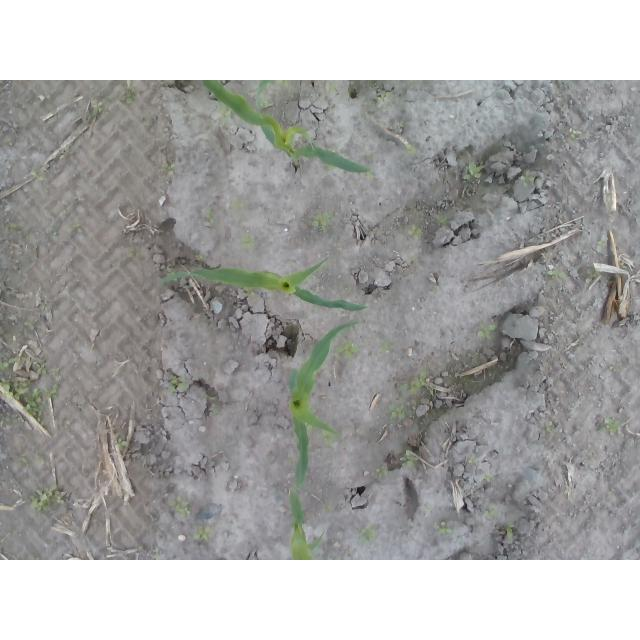Maize: (199, 81, 370, 176), (287, 317, 361, 496), (157, 253, 369, 311), (287, 486, 325, 560)
Weeds: (0, 349, 64, 428), (400, 368, 439, 396), (30, 486, 67, 513), (310, 208, 338, 241), (335, 336, 361, 361), (14, 447, 46, 466), (167, 494, 191, 516), (382, 400, 406, 421), (357, 521, 377, 545), (239, 222, 257, 248), (464, 161, 483, 183), (167, 375, 189, 394), (322, 431, 343, 450), (603, 416, 625, 433), (478, 321, 498, 339), (191, 524, 211, 542), (207, 393, 222, 416), (545, 266, 568, 280), (376, 90, 393, 107), (376, 336, 393, 353), (125, 80, 136, 105), (433, 521, 450, 536), (479, 503, 497, 517), (255, 98, 274, 111), (161, 160, 175, 177), (91, 98, 105, 115), (403, 448, 416, 466), (408, 225, 424, 239), (221, 103, 234, 119), (504, 517, 513, 540), (30, 167, 44, 181), (520, 174, 535, 187), (229, 198, 248, 208), (375, 463, 388, 477), (302, 128, 314, 143), (207, 206, 216, 225), (585, 270, 596, 285), (405, 144, 418, 156), (569, 126, 581, 139), (436, 214, 449, 226), (115, 436, 128, 448), (24, 319, 35, 332), (243, 287, 257, 297), (545, 420, 556, 432), (7, 223, 18, 234), (596, 240, 604, 255), (367, 151, 378, 161), (325, 85, 337, 94), (287, 446, 293, 464), (153, 544, 159, 560), (275, 80, 290, 86), (483, 472, 493, 481), (195, 254, 206, 262), (399, 120, 407, 129), (468, 456, 476, 465), (322, 506, 332, 513), (73, 223, 82, 229), (331, 415, 338, 421)
